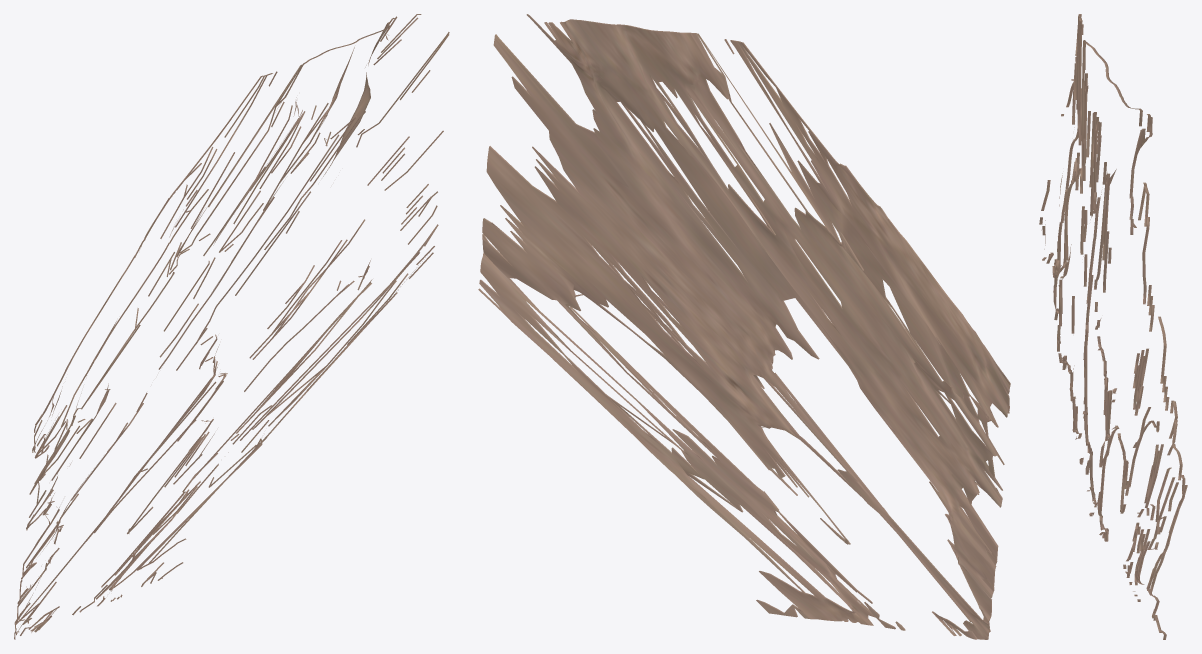
3 renders of one model, left to right at view 1: azimuth 30°, elevation 25°; view 2: azimuth 150°, elevation 25°; view 3: azimuth 270°, elevation 25°, orthographic. The views are drawn at different scales.
Size of the model in its own units: 15.59 by 16.71 by 3.4.
Materials: 1 (1 with a texture image).
